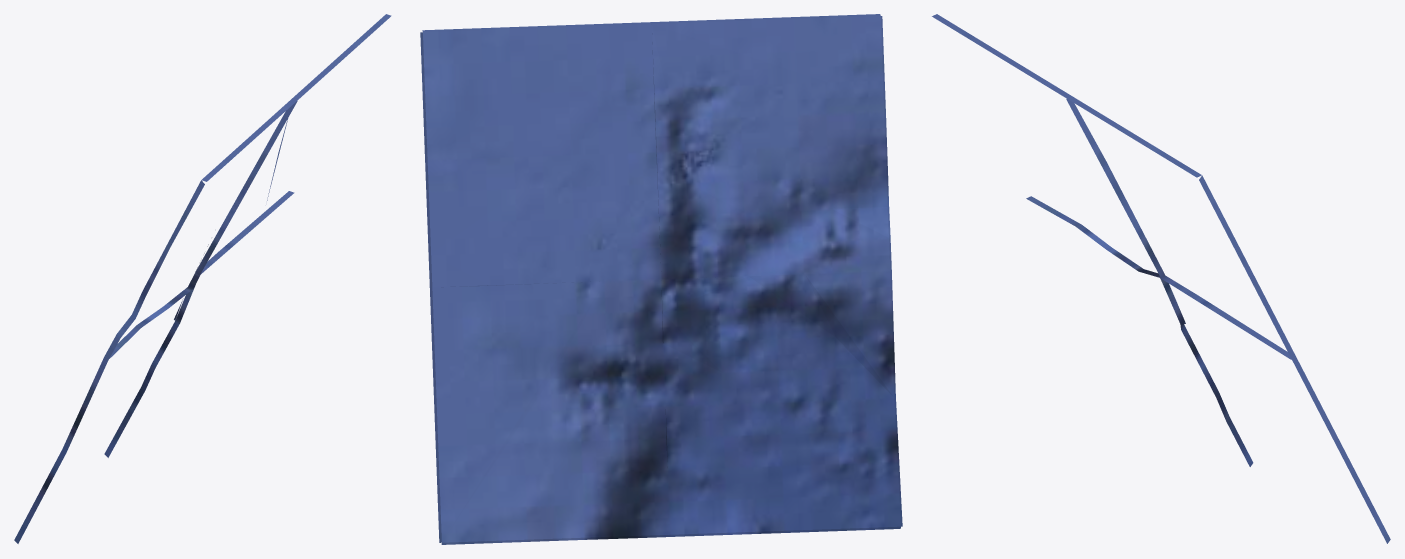
3 views of the same model, side by side, from view 1: azimuth 30°, elevation 25°; view 2: azimuth 150°, elevation 25°; view 3: azimuth 270°, elevation 25° (orthographic). The views are drawn at different scales.
Size of the model in its own units: 77796 by 71518 by 69571.
1 material, 1 textured.
